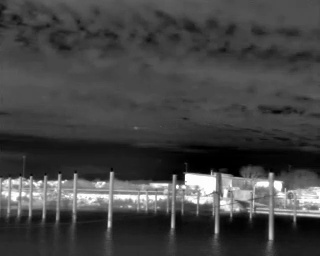BIRD: (132, 124, 140, 132)
